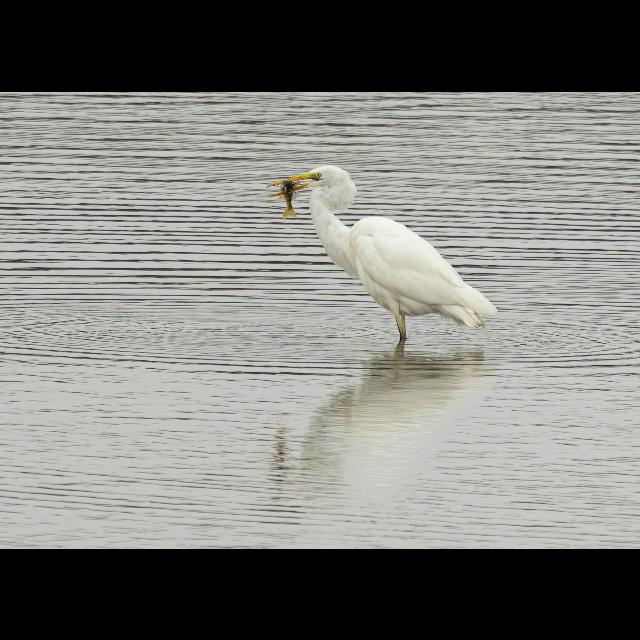egret: (268, 157, 516, 355)
